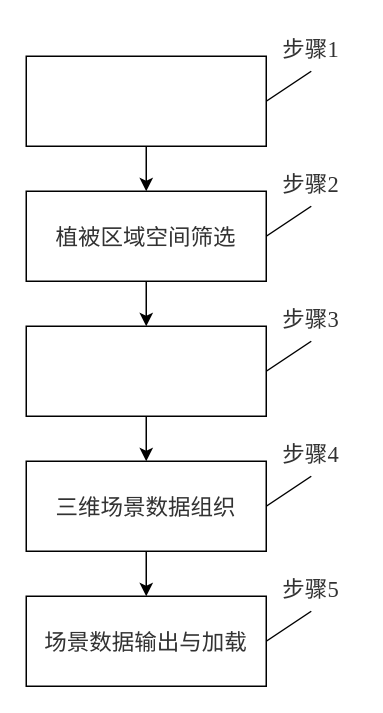
Some shapes in this 383 by 713 pixel diagram are drawn without their labels. The centre of each missing label's shape, as x and y in pixels:
"数据获取与预处理" belongs at pixel 145 100.
"树木实例生成" belongs at pixel 145 370.
